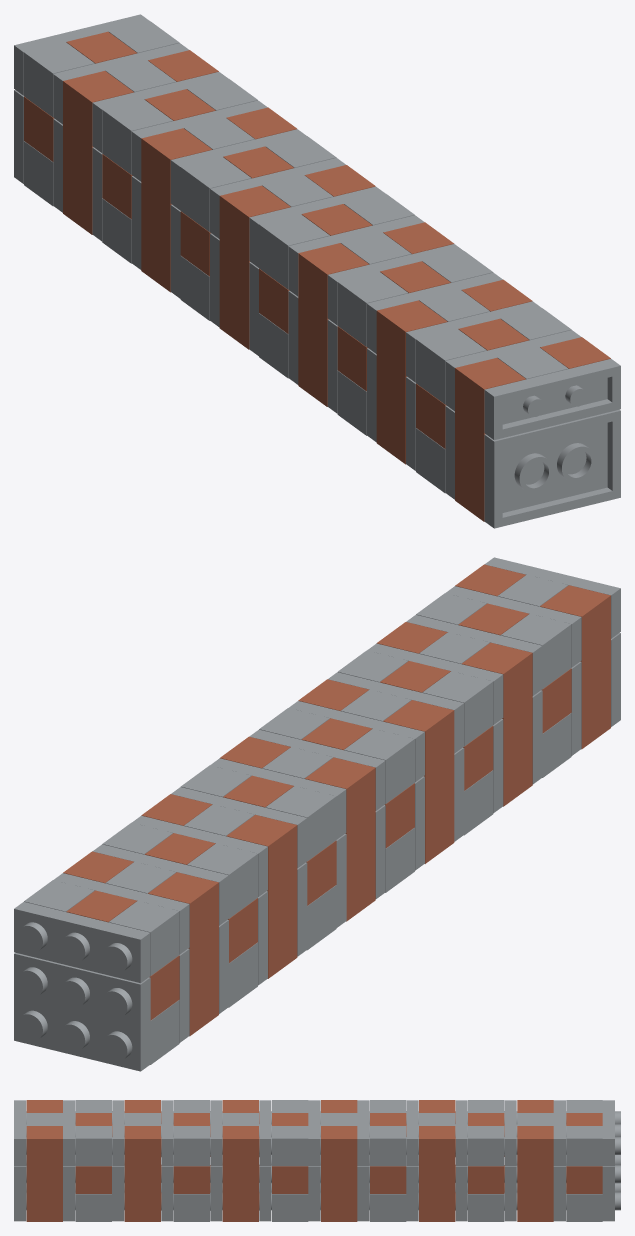
File: muro  entrada.dae
3 views of the same model, one above another, from view 1: azimuth 30°, elevation 25°; view 2: azimuth 150°, elevation 25°; view 3: azimuth 270°, elevation 25° (orthographic). The views are drawn at different scales.
Visible parts, largest first — view 1: Inner-Node-pared_dot_io-0, Inner-Node-pared_dot_io-1, Inner-Node-pared_dot_io-47, Inner-Node-pared_dot_io-68, Inner-Node-pared_dot_io-4, Inner-Node-pared_dot_io-36, Inner-Node-pared_dot_io-15, Inner-Node-pared_dot_io-79, Inner-Node-pared_dot_io-39, Inner-Node-pared_dot_io-71, Inner-Node-pared_dot_io-27, Inner-Node-pared_dot_io-59 (+62 smaller); view 2: Inner-Node-pared_dot_io-96, Inner-Node-pared_dot_io-97, Inner-Node-pared_dot_io-15, Inner-Node-pared_dot_io-36, Inner-Node-pared_dot_io-4, Inner-Node-pared_dot_io-47, Inner-Node-pared_dot_io-68, Inner-Node-pared_dot_io-79, Inner-Node-pared_dot_io-27, Inner-Node-pared_dot_io-59, Inner-Node-pared_dot_io-91, Inner-Node-pared_dot_io-39 (+62 smaller); view 3: Inner-Node-pared_dot_io-10, Inner-Node-pared_dot_io-34, Inner-Node-pared_dot_io-2, Inner-Node-pared_dot_io-42, Inner-Node-pared_dot_io-66, Inner-Node-pared_dot_io-74, Inner-Node-pared_dot_io-6, Inner-Node-pared_dot_io-25, Inner-Node-pared_dot_io-89, Inner-Node-pared_dot_io-38, Inner-Node-pared_dot_io-57, Inner-Node-pared_dot_io-70 (+62 smaller).
Part boxes in pixels (x1,y1,x2,y2): Inner-Node-pared_dot_io-0: (484,409,620,528); Inner-Node-pared_dot_io-1: (484,359,620,439); Inner-Node-pared_dot_io-47: (219,185,290,349); Inner-Node-pared_dot_io-68: (141,128,212,292); Inner-Node-pared_dot_io-4: (455,358,525,521); Inner-Node-pared_dot_io-36: (298,243,369,406); Inner-Node-pared_dot_io-15: (376,300,447,464); Inner-Node-pared_dot_io-79: (63,71,133,234); Inner-Node-pared_dot_io-39: (259,214,329,289); Inner-Node-pared_dot_io-71: (102,99,172,174); Inner-Node-pared_dot_io-27: (337,271,407,346); Inner-Node-pared_dot_io-59: (180,157,251,231); Inner-Node-pared_dot_io-96: (14,952,150,1071); Inner-Node-pared_dot_io-97: (14,902,150,983); Inner-Node-pared_dot_io-15: (462,642,532,806); Inner-Node-pared_dot_io-36: (383,700,454,863); Inner-Node-pared_dot_io-4: (540,585,610,749); Inner-Node-pared_dot_io-47: (305,757,375,921); Inner-Node-pared_dot_io-68: (226,815,297,978); Inner-Node-pared_dot_io-79: (148,872,218,1036); Inner-Node-pared_dot_io-27: (422,671,493,746); Inner-Node-pared_dot_io-59: (265,786,336,861); Inner-Node-pared_dot_io-91: (108,901,179,976); Inner-Node-pared_dot_io-39: (344,728,414,803); Inner-Node-pared_dot_io-10: (124,1126,161,1221); Inner-Node-pared_dot_io-34: (222,1126,259,1221); Inner-Node-pared_dot_io-2: (26,1126,62,1221); Inner-Node-pared_dot_io-42: (321,1126,357,1221); Inner-Node-pared_dot_io-66: (419,1126,455,1221); Inner-Node-pared_dot_io-74: (517,1126,553,1221); Inner-Node-pared_dot_io-6: (75,1126,112,1166); Inner-Node-pared_dot_io-25: (173,1126,210,1166); Inner-Node-pared_dot_io-89: (566,1126,602,1166); Inner-Node-pared_dot_io-38: (272,1126,308,1166); Inner-Node-pared_dot_io-57: (370,1126,406,1166); Inner-Node-pared_dot_io-70: (468,1126,504,1166).
Bounding box in the file's own units: 59.82 × 59.82 × 396.
